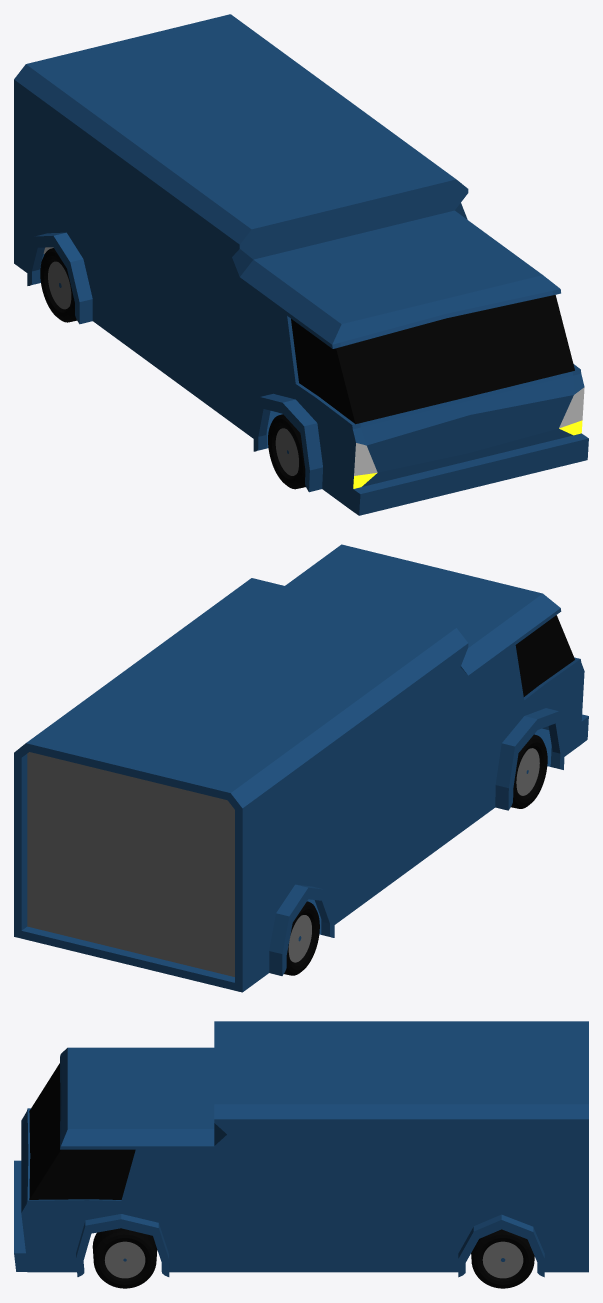
The model's file is commercialtruck.fbx.
3 views of the same model, one above another, from view 1: azimuth 30°, elevation 25°; view 2: azimuth 150°, elevation 25°; view 3: azimuth 270°, elevation 25° (orthographic). The views are drawn at different scales.
Parts seen in each view (by area): view 1: commercial truck; view 2: commercial truck; view 3: commercial truck.
Boxes of the visible parts, x1=… form: commercial truck: x1=14, y1=14, x2=588, y2=515; commercial truck: x1=14, y1=544, x2=588, y2=992; commercial truck: x1=14, y1=1021, x2=588, y2=1288.
Size of the model in its own units: 385 by 309 by 906.
